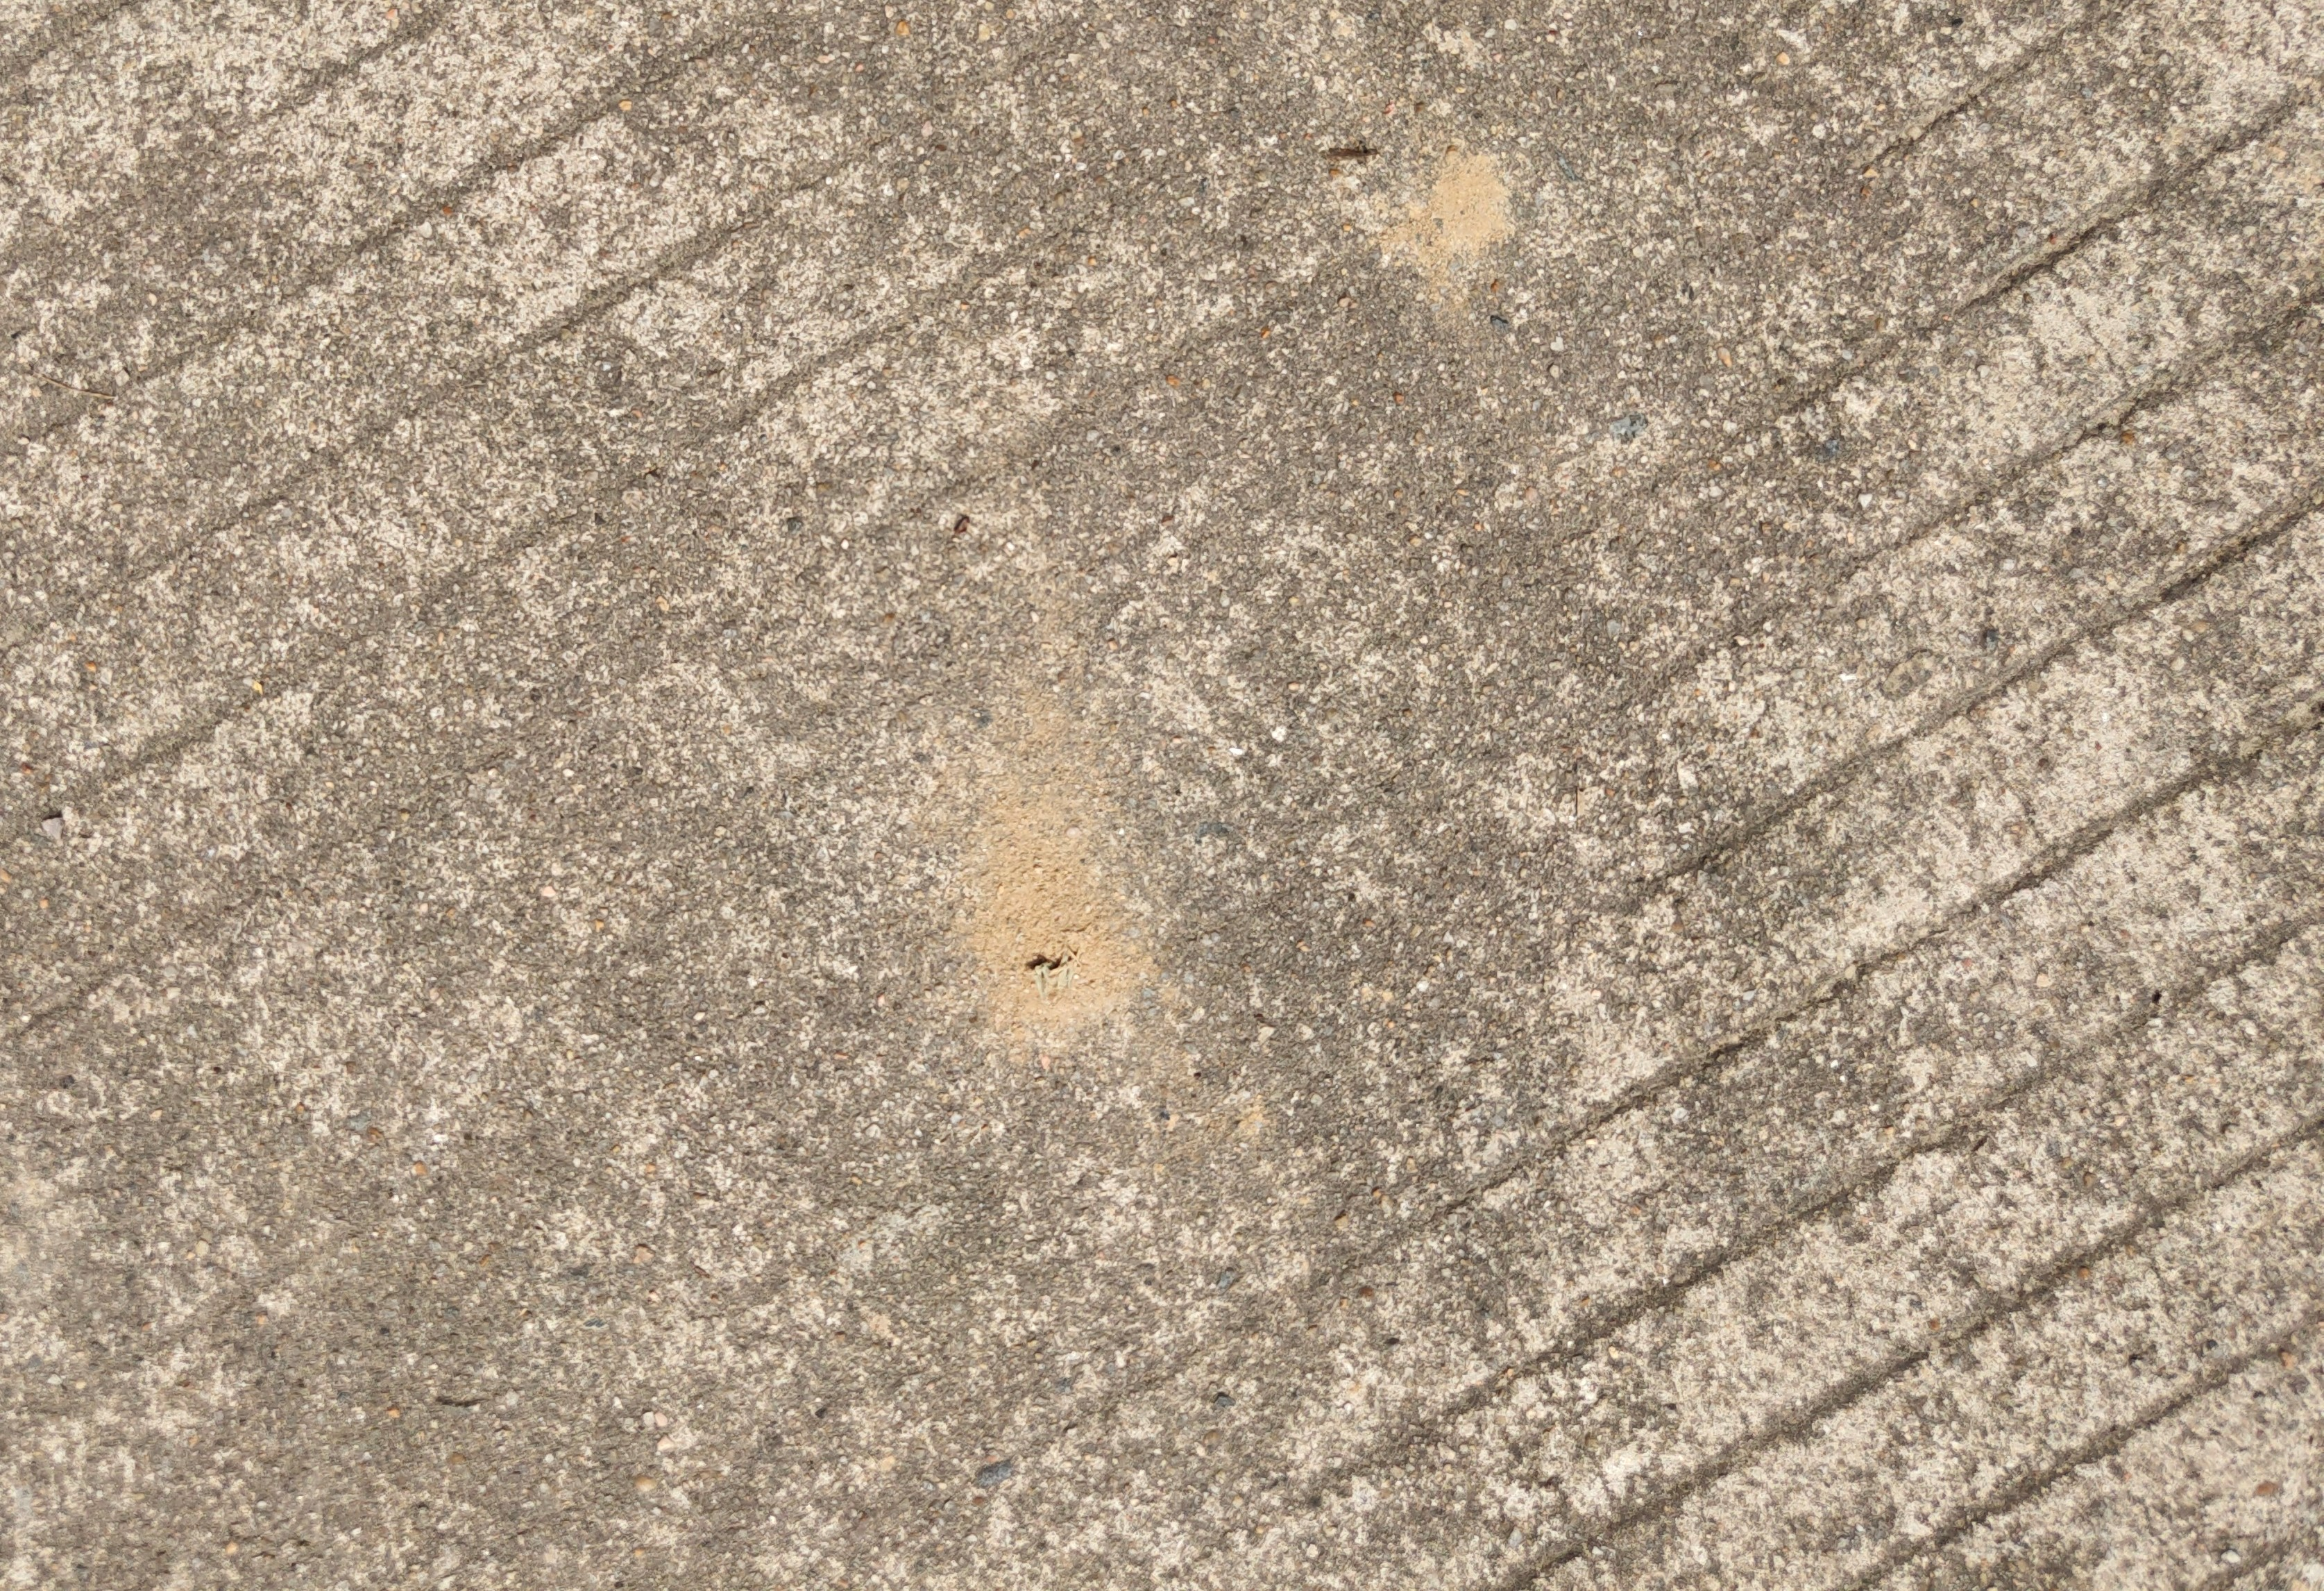ash pile: (943, 604, 1153, 1042), (1374, 154, 1515, 279)
